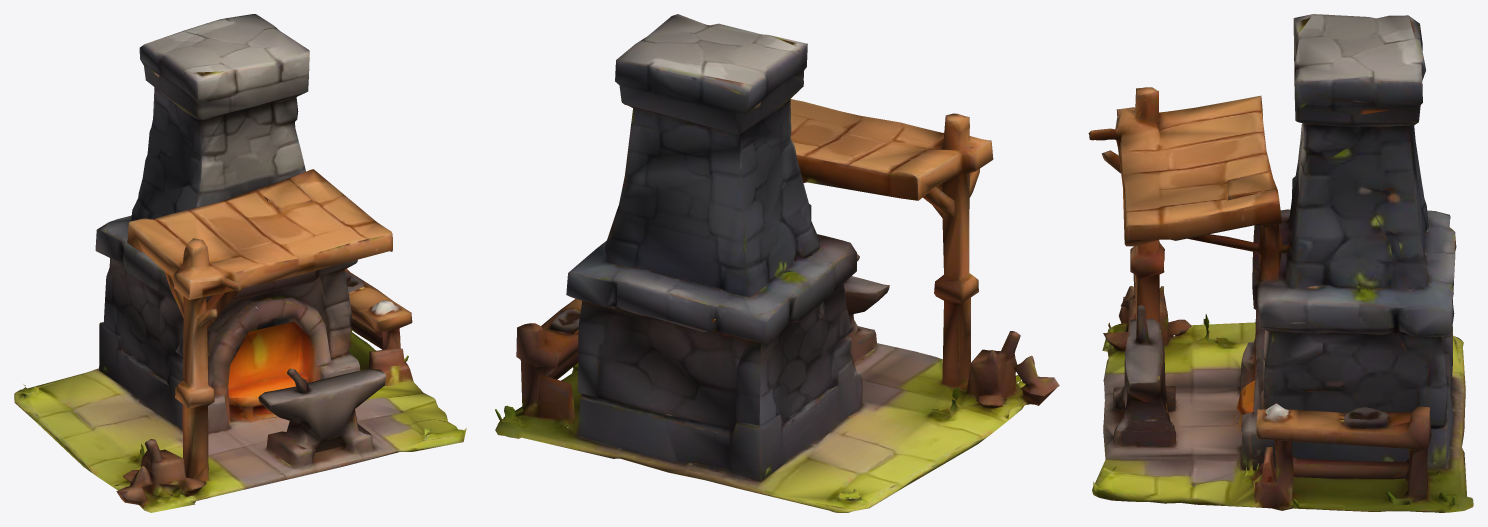
Rendered from smithy.glb.
3 renders of one model, left to right at view 1: azimuth 30°, elevation 25°; view 2: azimuth 150°, elevation 25°; view 3: azimuth 270°, elevation 25°, orthographic. The views are drawn at different scales.
Visible parts, largest first — view 1: tripo_node_4f4e45ba; view 2: tripo_node_4f4e45ba; view 3: tripo_node_4f4e45ba.
Boxes of the visible parts, left/top/right/bottom form: tripo_node_4f4e45ba: left=14, top=14, right=466, bottom=512; tripo_node_4f4e45ba: left=495, top=14, right=1059, bottom=512; tripo_node_4f4e45ba: left=1088, top=14, right=1473, bottom=512.
Bounding box in the file's own units: 99.03 × 89.76 × 80.86.
Materials: 1 (1 with a texture image).
